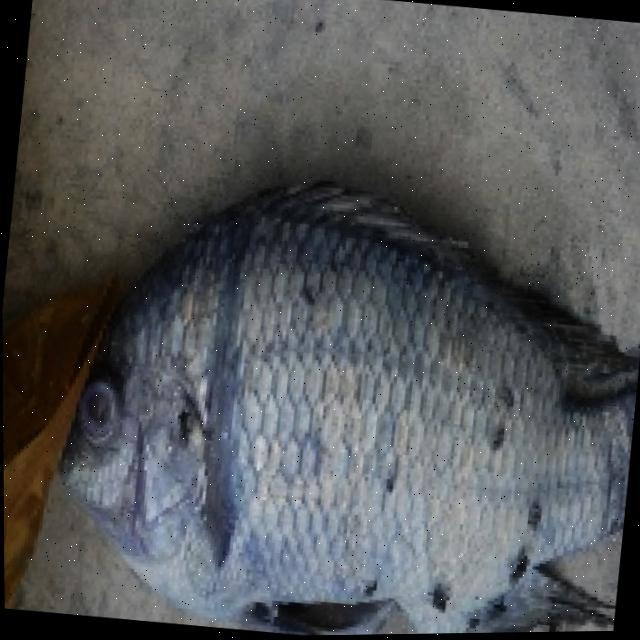Non-Fresh: (29, 213, 640, 640), (65, 361, 133, 460)
